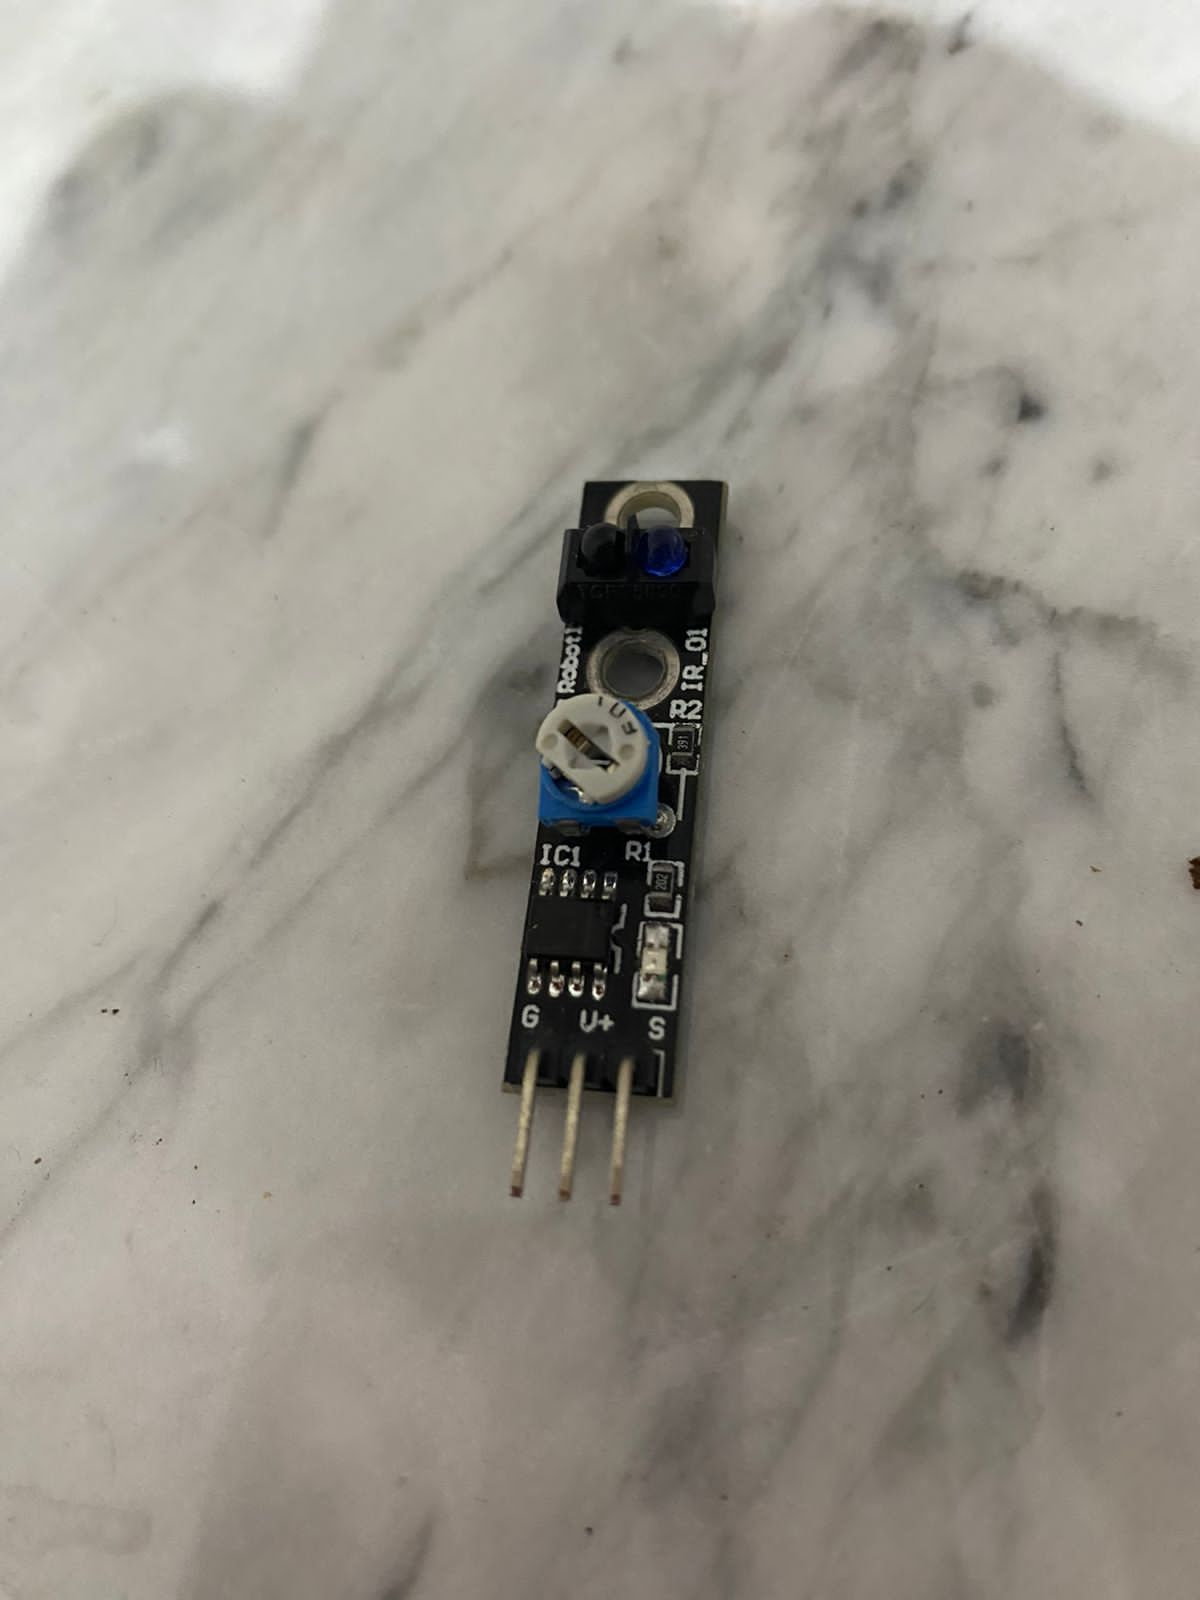ir-sensor: (489, 467, 746, 1222)
